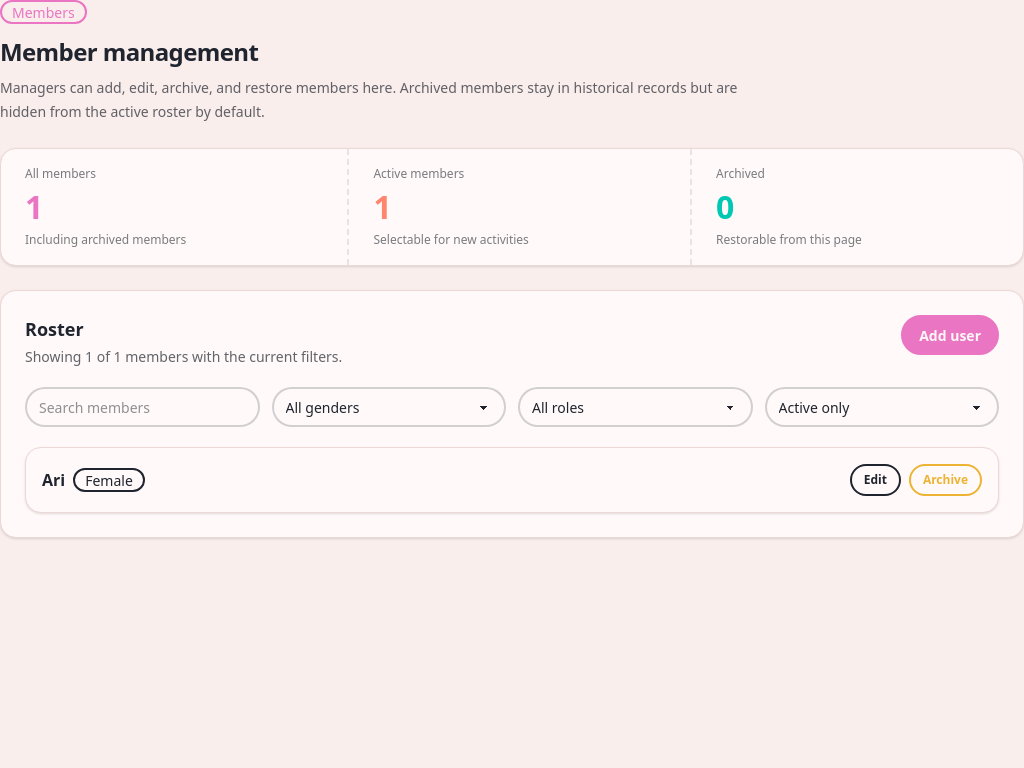
Scenario: members page › opens the add-user modal, creates a member, and closes on success
Expected: the field labelled "Name" is not shown
Click the button "Add user" at (950, 335), box top-left (901, 315), bottom-right (999, 355)
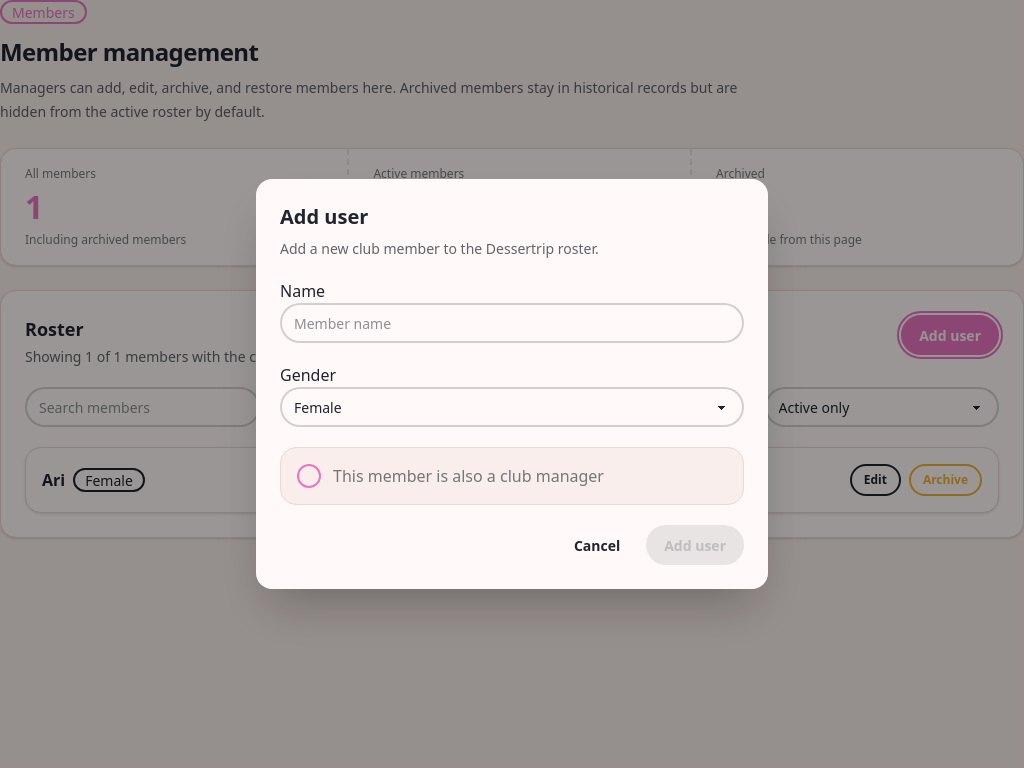
Type "Coco" into the field labelled "Name" at (512, 323), box top-left (280, 303), bottom-right (744, 343)
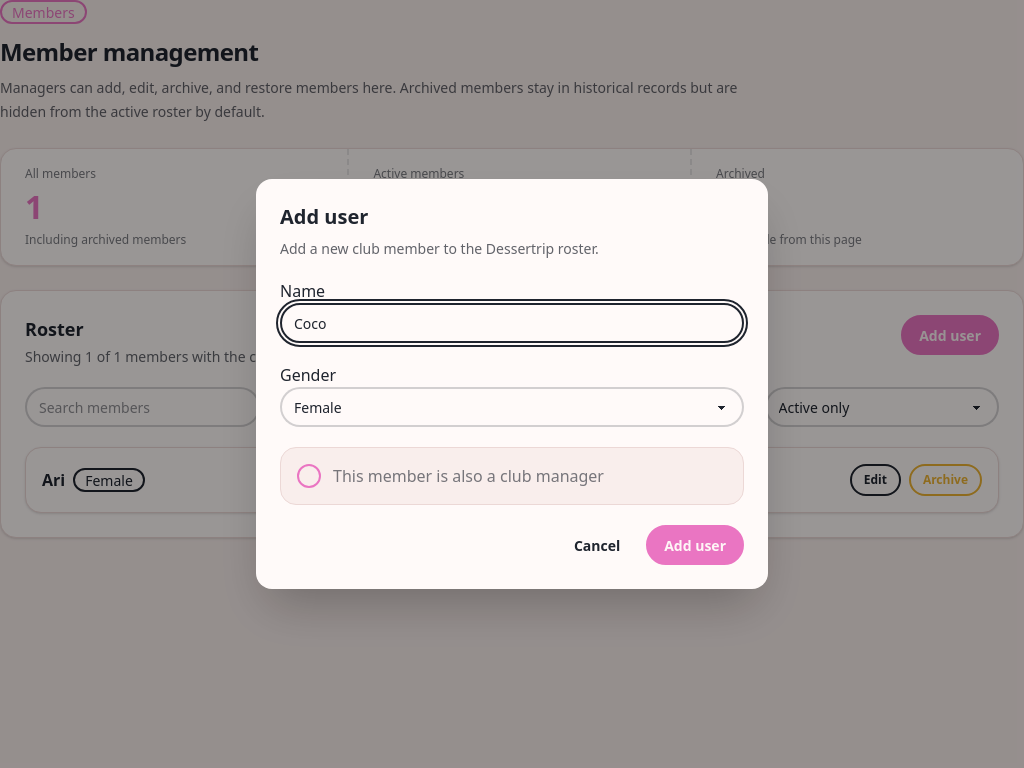
Click the checkbox labelled "This member is also a club manager" at (309, 476), box top-left (297, 464), bottom-right (321, 488)
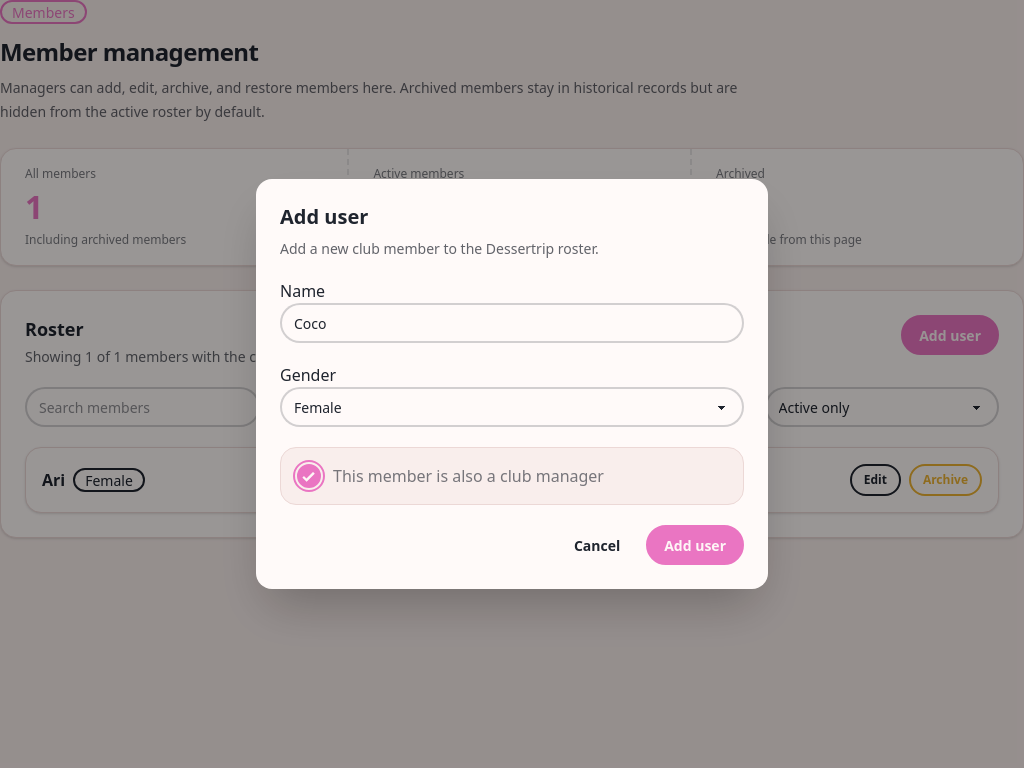
Click the button "Add user" at (695, 545), box top-left (646, 525), bottom-right (744, 565)
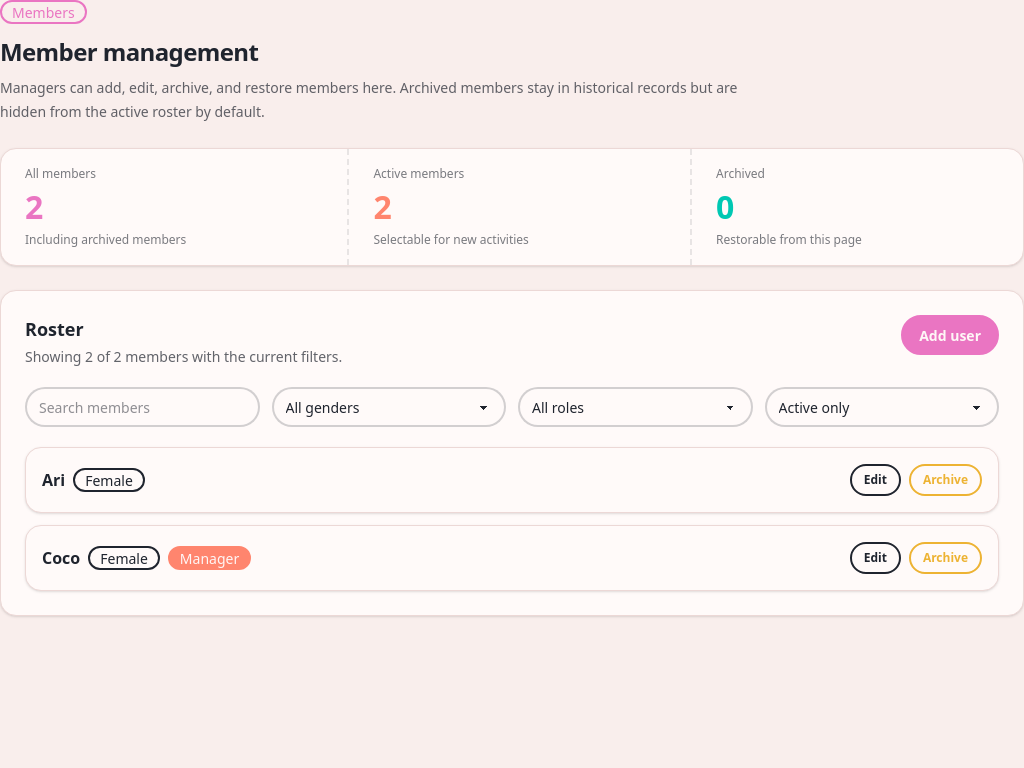
Now the dialog is gone
Now the heading "Coco" is shown, box top-left (42, 546), bottom-right (80, 570)
